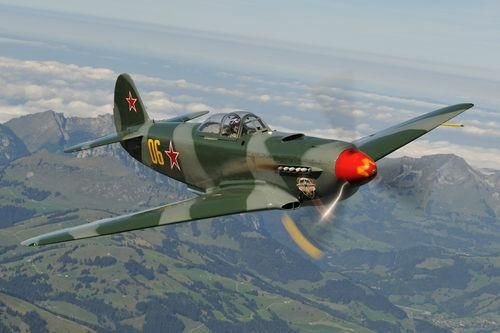airplane: (17, 73, 476, 258)
